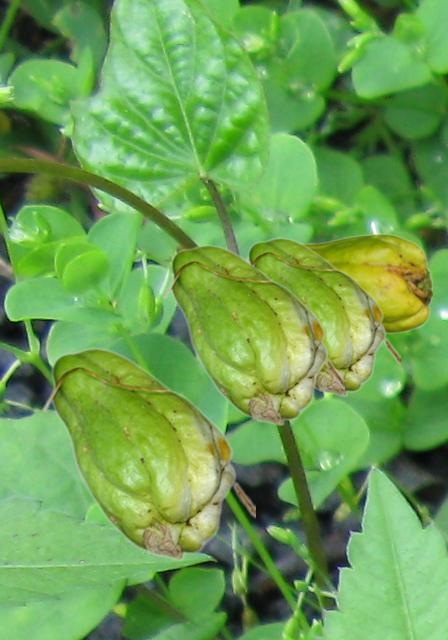sayote: (41, 347, 254, 560), (162, 244, 343, 425), (247, 237, 399, 396), (246, 233, 431, 333)
